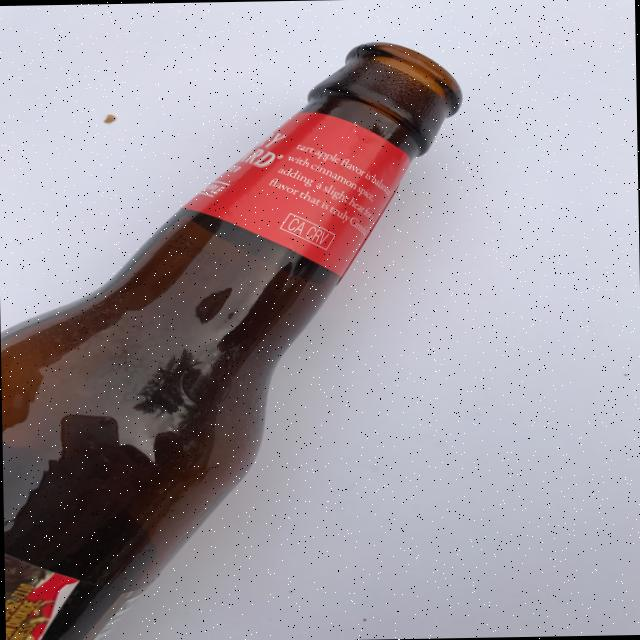glass: (1, 42, 462, 639)
